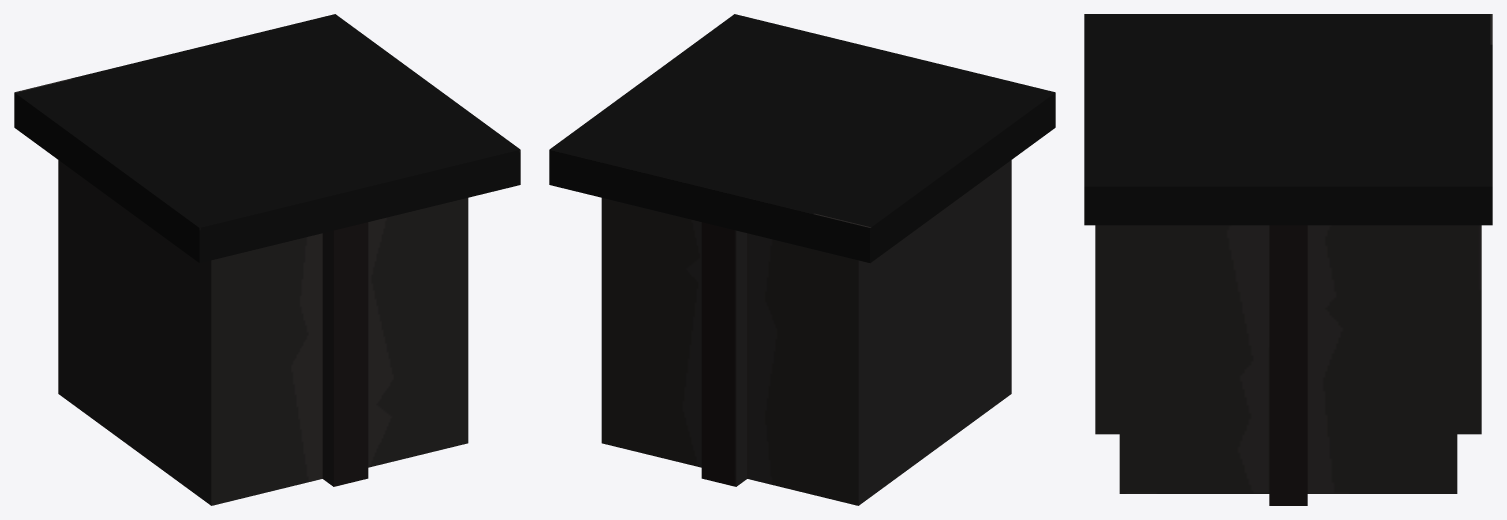
Rendered from elevatorShaft.obj.
The picture shows the model from 3 angles, left to right: view 1: azimuth 30°, elevation 25°; view 2: azimuth 150°, elevation 25°; view 3: azimuth 270°, elevation 25°; orthographic projection. The views are drawn at different scales.
Parts seen in each view (by area): view 1: Cube.003; view 2: Cube.003; view 3: Cube.003.
Boxes of the visible parts, bbox=[...] form: Cube.003: bbox=[14, 14, 520, 505]; Cube.003: bbox=[549, 14, 1055, 505]; Cube.003: bbox=[1084, 14, 1492, 505].
Bounding box in the file's own units: 3.66 × 3.23 × 3.66.
1 material, 1 textured.
